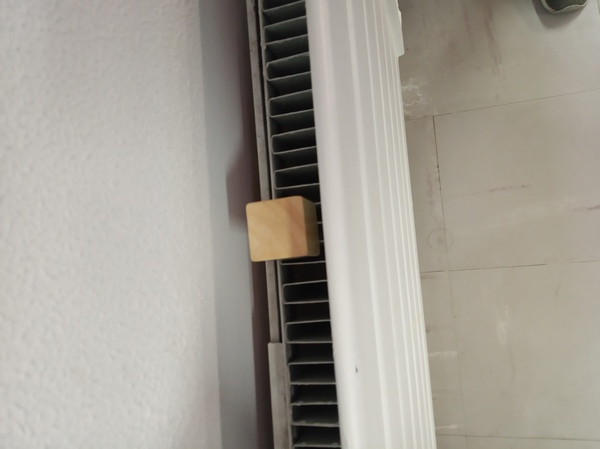violet: (244, 204, 315, 259)
